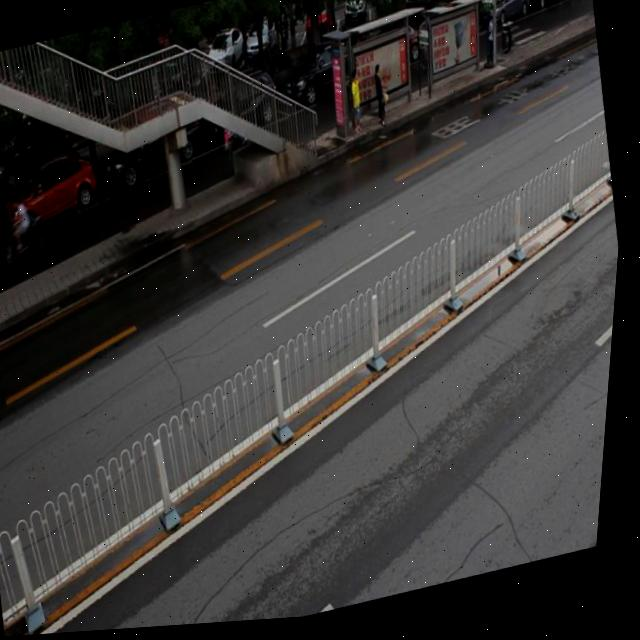car: (0, 148, 107, 235), (101, 111, 209, 191), (195, 74, 288, 153), (278, 45, 367, 121), (0, 187, 2, 261)
